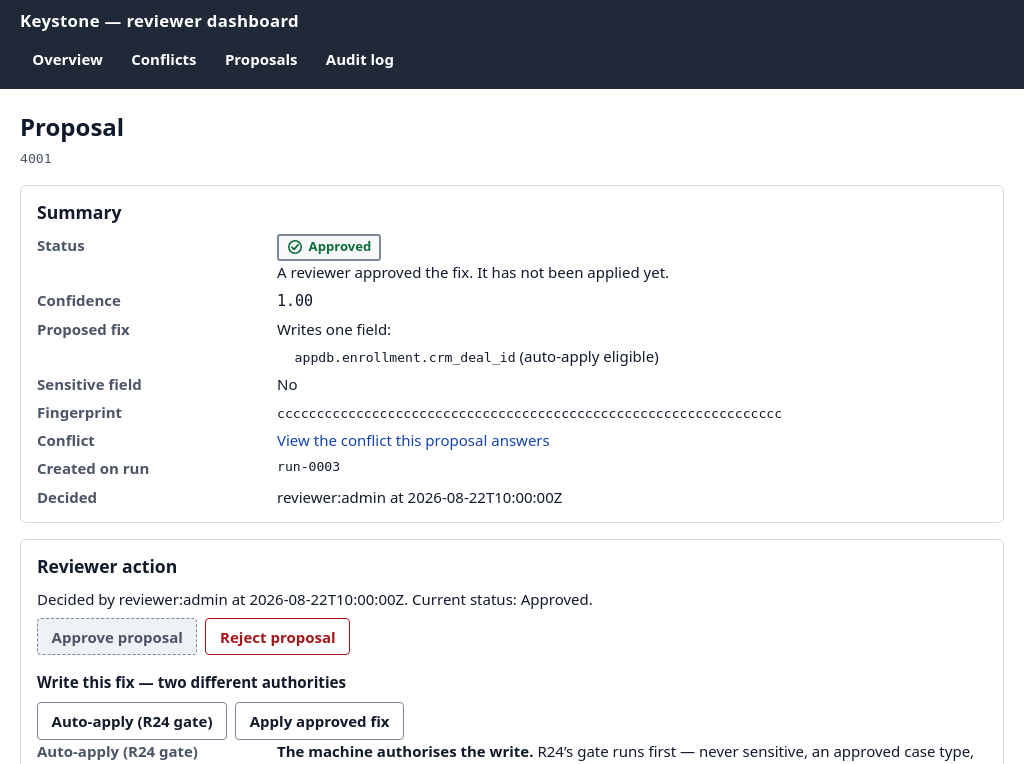
Test case: R24 — the dashboard can reach the GUARDED auto-apply path › renders the server's own refusal reason and the conditions that failed
This screenshot has width=1024, height=764.
Click the button "Auto-apply (R24 gate)" at (132, 721), box [37,702,227,740]
(page scrolled)
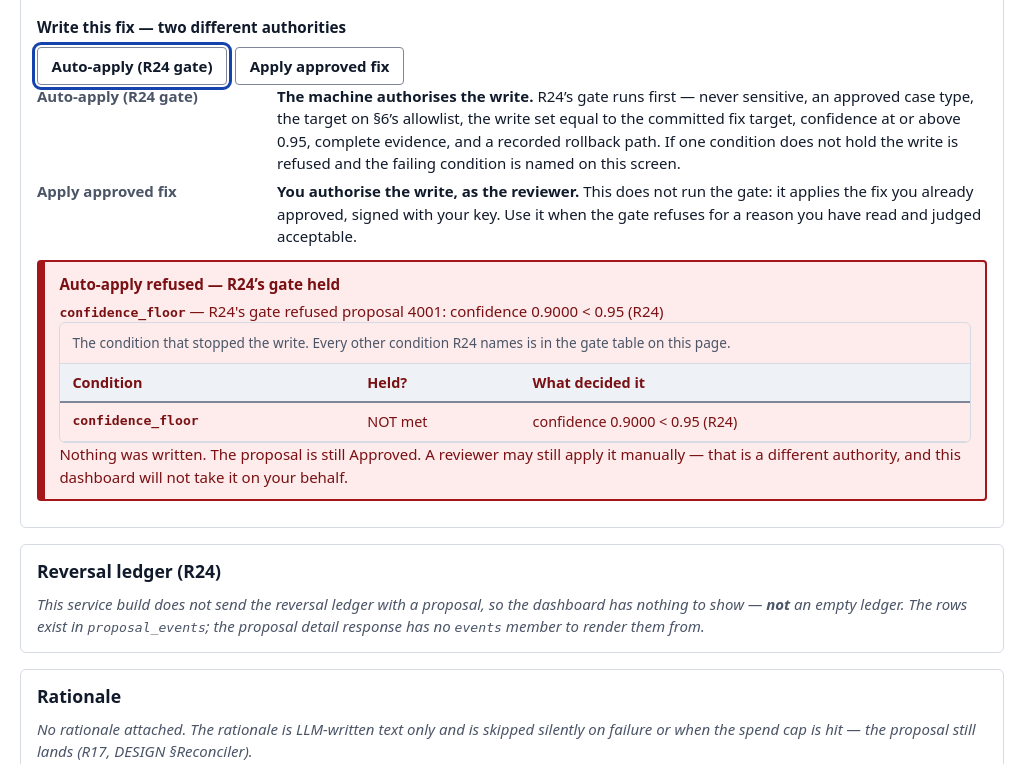
Expected: the message with test id "auto-apply-refusal" shows "confidence 0.9000 < 0.95 (R24)", [532,412,737,432]
Expected: the message with test id "auto-apply-refusal" shows "confidence_floor", [59,305,186,320]
Expected: the message with test id "auto-apply-refusal" shows "nothing was written", [59,444,349,464]
